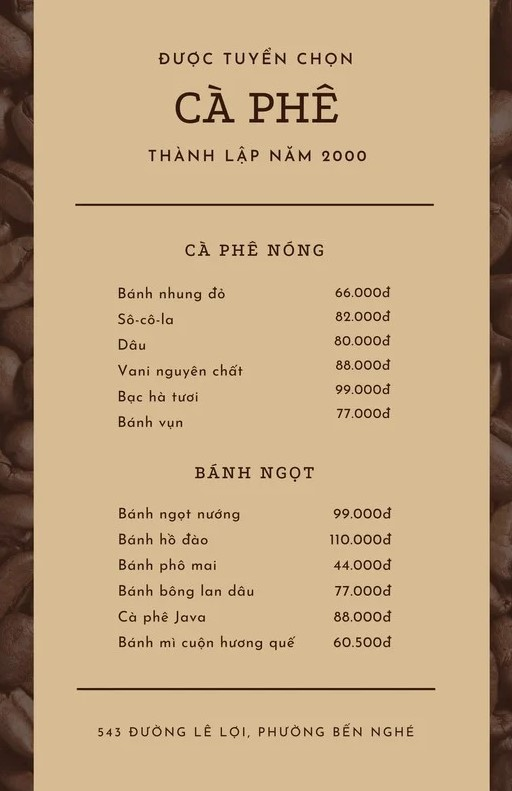gia_tien: (328, 528, 393, 546), (329, 505, 393, 523), (333, 581, 394, 599), (333, 631, 390, 650), (333, 608, 394, 625), (334, 356, 391, 374), (334, 380, 392, 397), (330, 558, 395, 573), (333, 306, 390, 323), (334, 332, 391, 349), (334, 405, 393, 421), (332, 284, 392, 299)
menu: (117, 404, 394, 430), (117, 552, 394, 577), (116, 502, 394, 526), (117, 579, 395, 602), (117, 604, 394, 627), (116, 358, 392, 380), (117, 631, 393, 653), (116, 529, 394, 550), (116, 382, 392, 403), (115, 282, 393, 300), (115, 307, 393, 325), (115, 333, 393, 351)
ten_mon: (116, 632, 297, 652), (116, 580, 253, 600), (115, 360, 244, 380), (116, 503, 241, 523), (116, 282, 225, 301), (116, 555, 218, 574), (116, 606, 208, 626), (116, 531, 208, 547), (115, 388, 199, 405), (118, 412, 183, 430), (114, 309, 175, 327), (116, 335, 149, 353)
